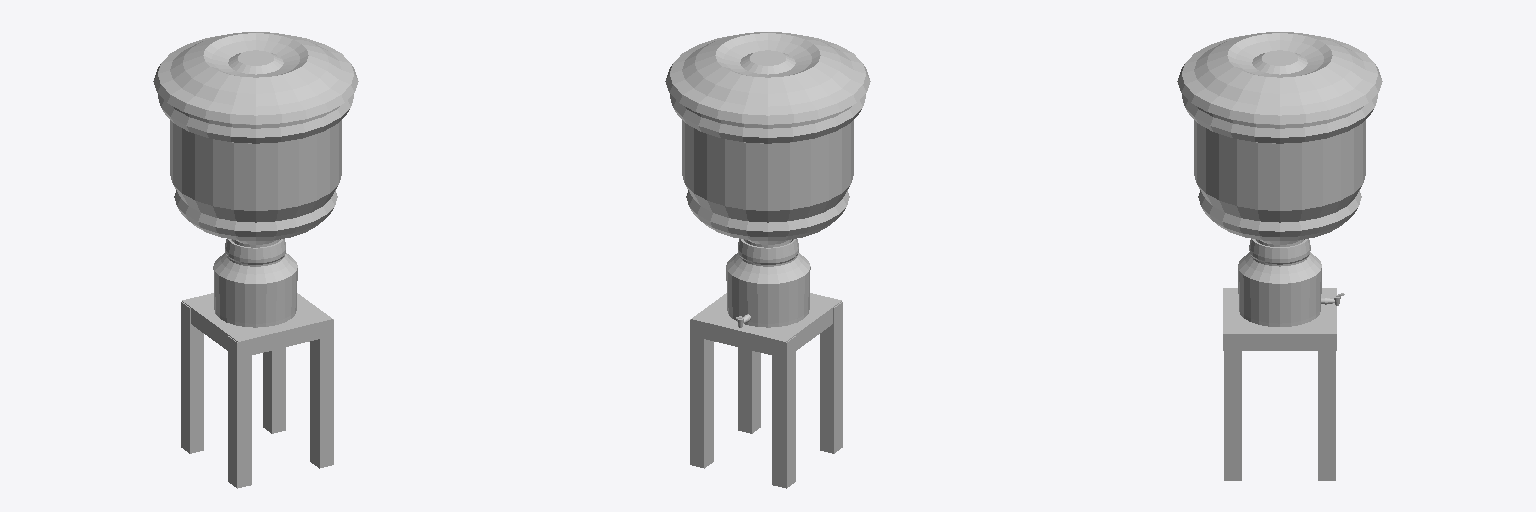
Rendered from Water_Bottle_01.obj.
3 renders of one model, left to right at view 1: azimuth 30°, elevation 25°; view 2: azimuth 150°, elevation 25°; view 3: azimuth 270°, elevation 25°, orthographic.
Visible parts, largest first — view 1: Water_Bottle_01.obj; view 2: Water_Bottle_01.obj; view 3: Water_Bottle_01.obj.
Boxes of the visible parts, x1=… form: Water_Bottle_01.obj: x1=153, y1=32, x2=358, y2=488; Water_Bottle_01.obj: x1=665, y1=32, x2=870, y2=488; Water_Bottle_01.obj: x1=1177, y1=32, x2=1382, y2=480.
Bounding box in the file's own units: 99.65 × 215 × 99.65.